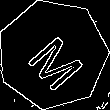M_NE: (18, 21, 87, 88)
